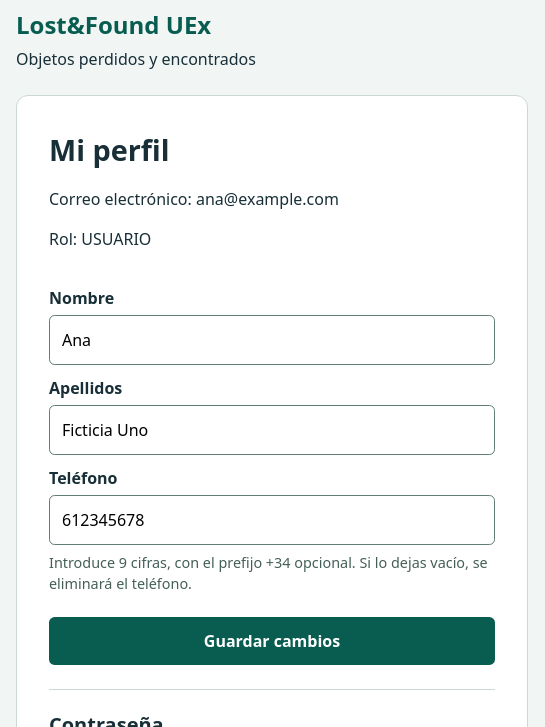
guarda los cambios y envía null al vaciar el teléfono
Replace the text in the field labelled "Nombre" with "Ana María" at coordinates (272, 340), box x1=49 y1=315 x2=495 y2=365
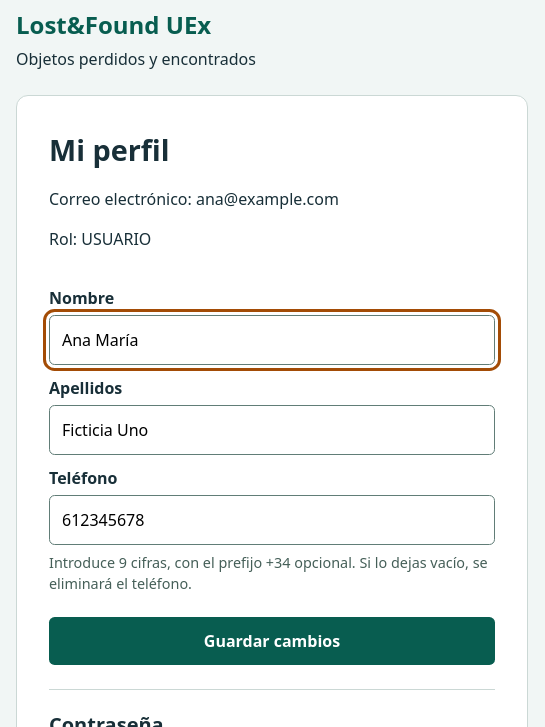
Clear the field labelled "Teléfono" at coordinates (272, 520), box x1=49 y1=495 x2=495 y2=545
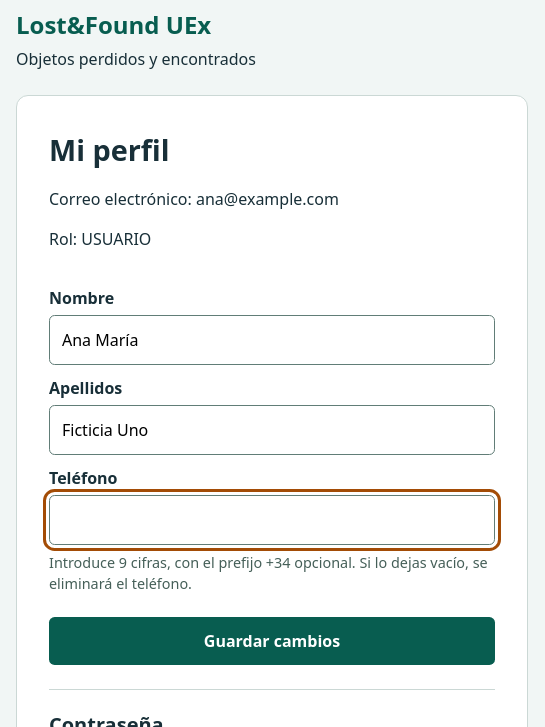
Click the button "Guardar cambios" at coordinates (272, 641), box x1=49 y1=617 x2=495 y2=665
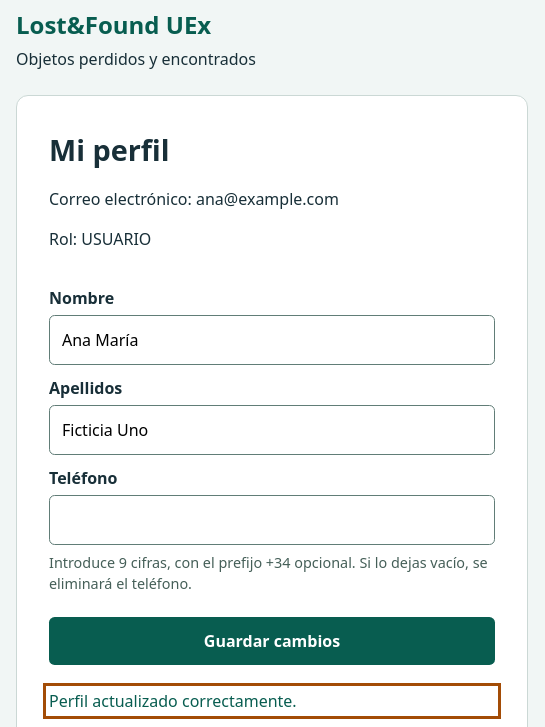
Result: the text "Perfil actualizado correctamente." is shown at x1=49 y1=690 x2=297 y2=712
